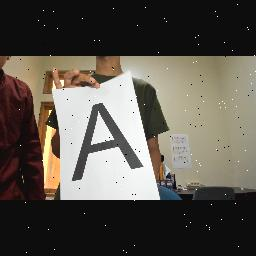a: (64, 100, 148, 184)
